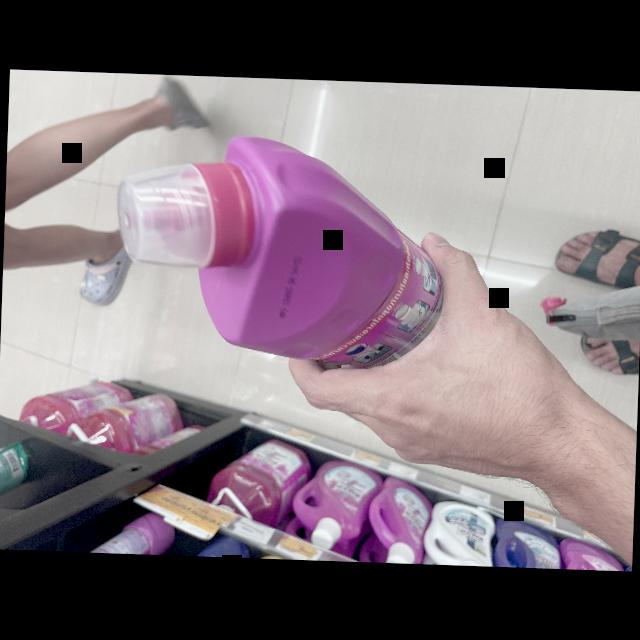chemical_plastic_bottle: (107, 130, 470, 366)
